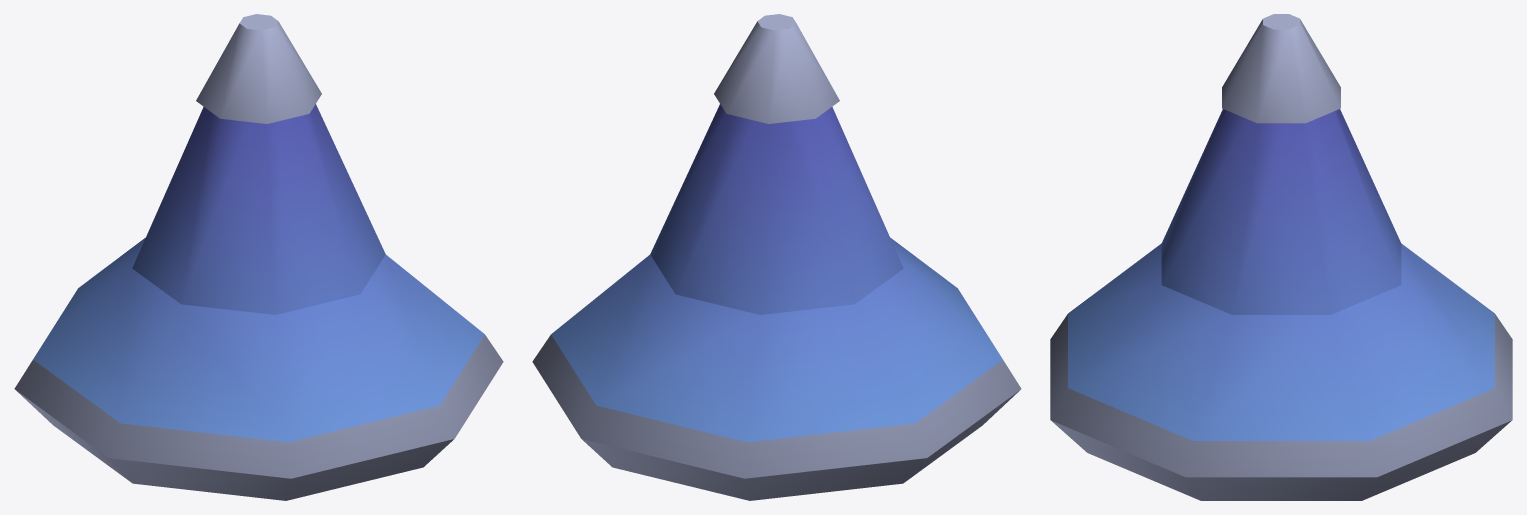
The model's file is pk_tower-roof.glb.
3 views of the same model, side by side, from view 1: azimuth 30°, elevation 25°; view 2: azimuth 150°, elevation 25°; view 3: azimuth 270°, elevation 25° (orthographic).
Visible parts, largest first — view 1: tower-roof; view 2: tower-roof; view 3: tower-roof.
Part boxes in pixels (<box>): tower-roof: <box>14,14,503,500</box>; tower-roof: <box>532,14,1021,500</box>; tower-roof: <box>1050,14,1512,500</box>.
Bounding box in the file's own units: 3.63 × 3.44 × 3.63.
Materials: 1 (1 with a texture image).
